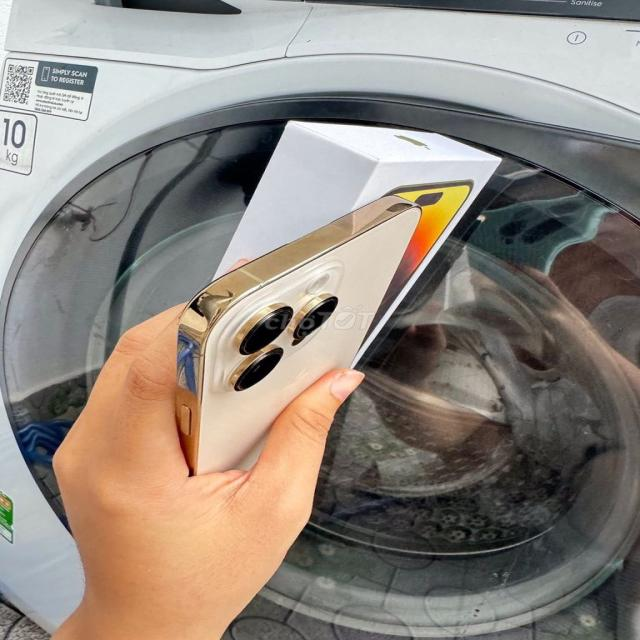gen_14: (177, 196, 420, 474)
